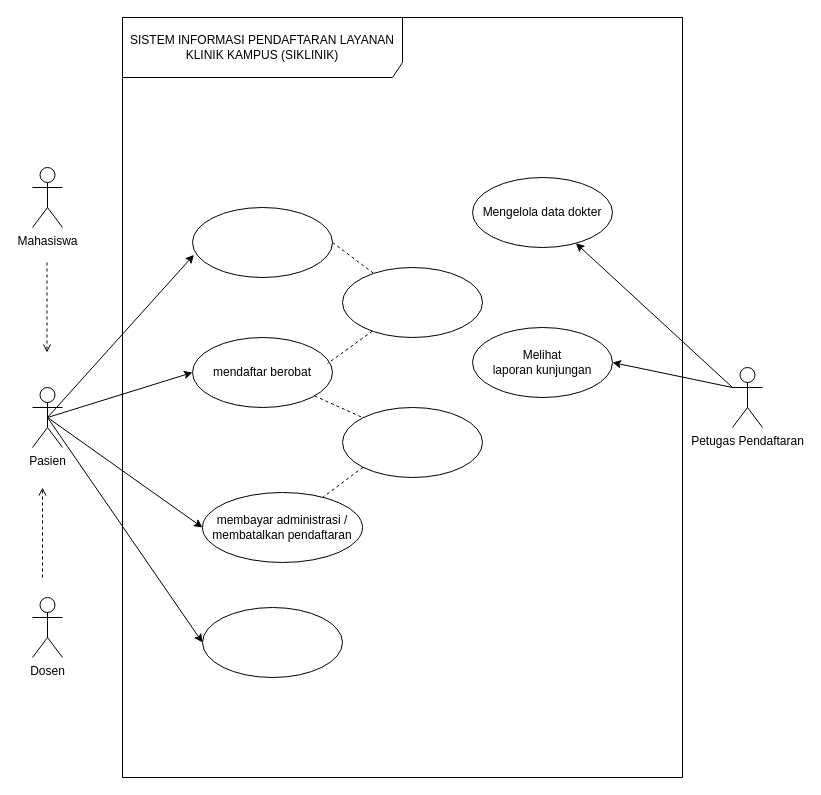
The diagram is 821 pixels wide and 795 high, and some of its shapes have lost their labels. The shapes that lost their labels are listed below. From the top down, each one's centre as x and y in pixels, then its label:
point (262, 242): melihat jadwal dokter
point (412, 302): memeriksa ketersediaan jadwal
point (412, 442): Menunggu Pembayaran
point (272, 642): melihat riwayat kunjungan
